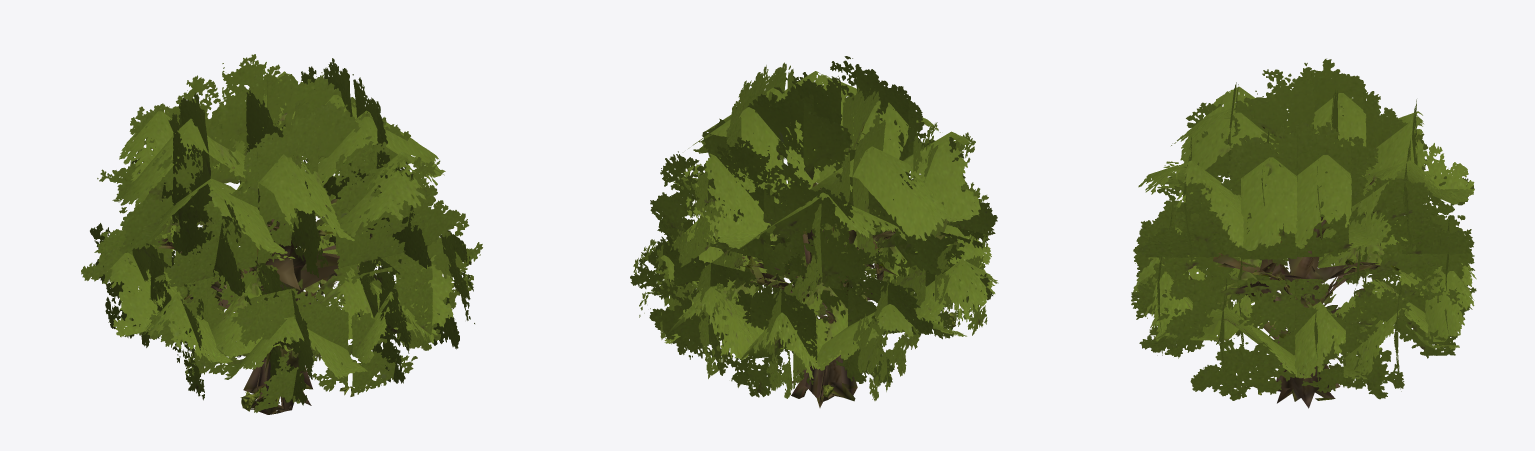
The model's file is oak-elder-far.glb.
The picture shows the model from 3 angles, left to right: view 1: azimuth 30°, elevation 25°; view 2: azimuth 150°, elevation 25°; view 3: azimuth 270°, elevation 25°; orthographic projection. The views are drawn at different scales.
Parts seen in each view (by area): view 1: Foliage, Wood; view 2: Foliage, Wood; view 3: Foliage, Wood.
Boxes of the visible parts, x1,y1,x2,y2 form: Foliage: [81, 54, 482, 412]; Wood: [157, 162, 374, 414]; Foliage: [630, 56, 998, 400]; Wood: [737, 125, 957, 407]; Foliage: [1131, 58, 1476, 400]; Wood: [1189, 126, 1443, 408].
Size of the model in its own units: 14.73 by 12.38 by 15.27.
2 materials, 2 textured.
